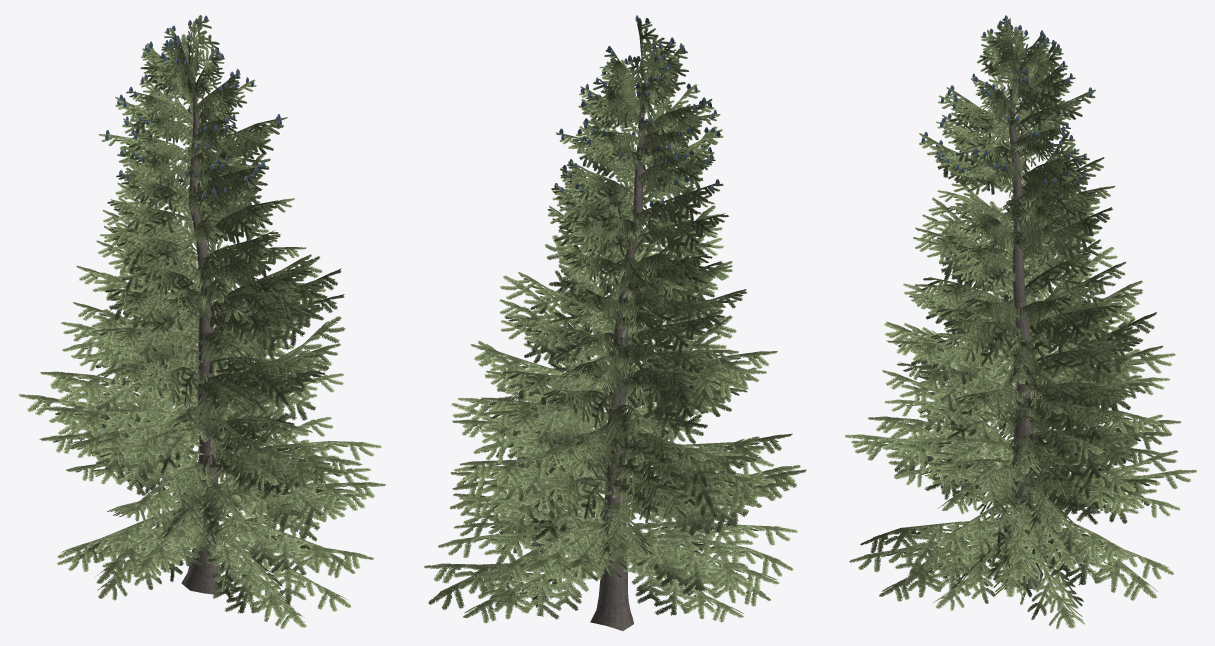
Rendered from Abies_Balsamea_Spring_Adult.glb.
3 renders of one model, left to right at view 1: azimuth 30°, elevation 25°; view 2: azimuth 150°, elevation 25°; view 3: azimuth 270°, elevation 25°, orthographic. The views are drawn at different scales.
Visible parts, largest first — view 1: Abies_Balsamea_Spring_Adult__LOD3; view 2: Abies_Balsamea_Spring_Adult__LOD3; view 3: Abies_Balsamea_Spring_Adult__LOD3.
Part boxes in pixels (box(x1,y1,x2,y2)): Abies_Balsamea_Spring_Adult__LOD3: box(18, 15, 386, 629); Abies_Balsamea_Spring_Adult__LOD3: box(424, 15, 806, 630); Abies_Balsamea_Spring_Adult__LOD3: box(844, 15, 1197, 629).
Bounding box in the file's own units: 7.97 × 13.57 × 7.96.
Materials: 3 (3 with a texture image).
